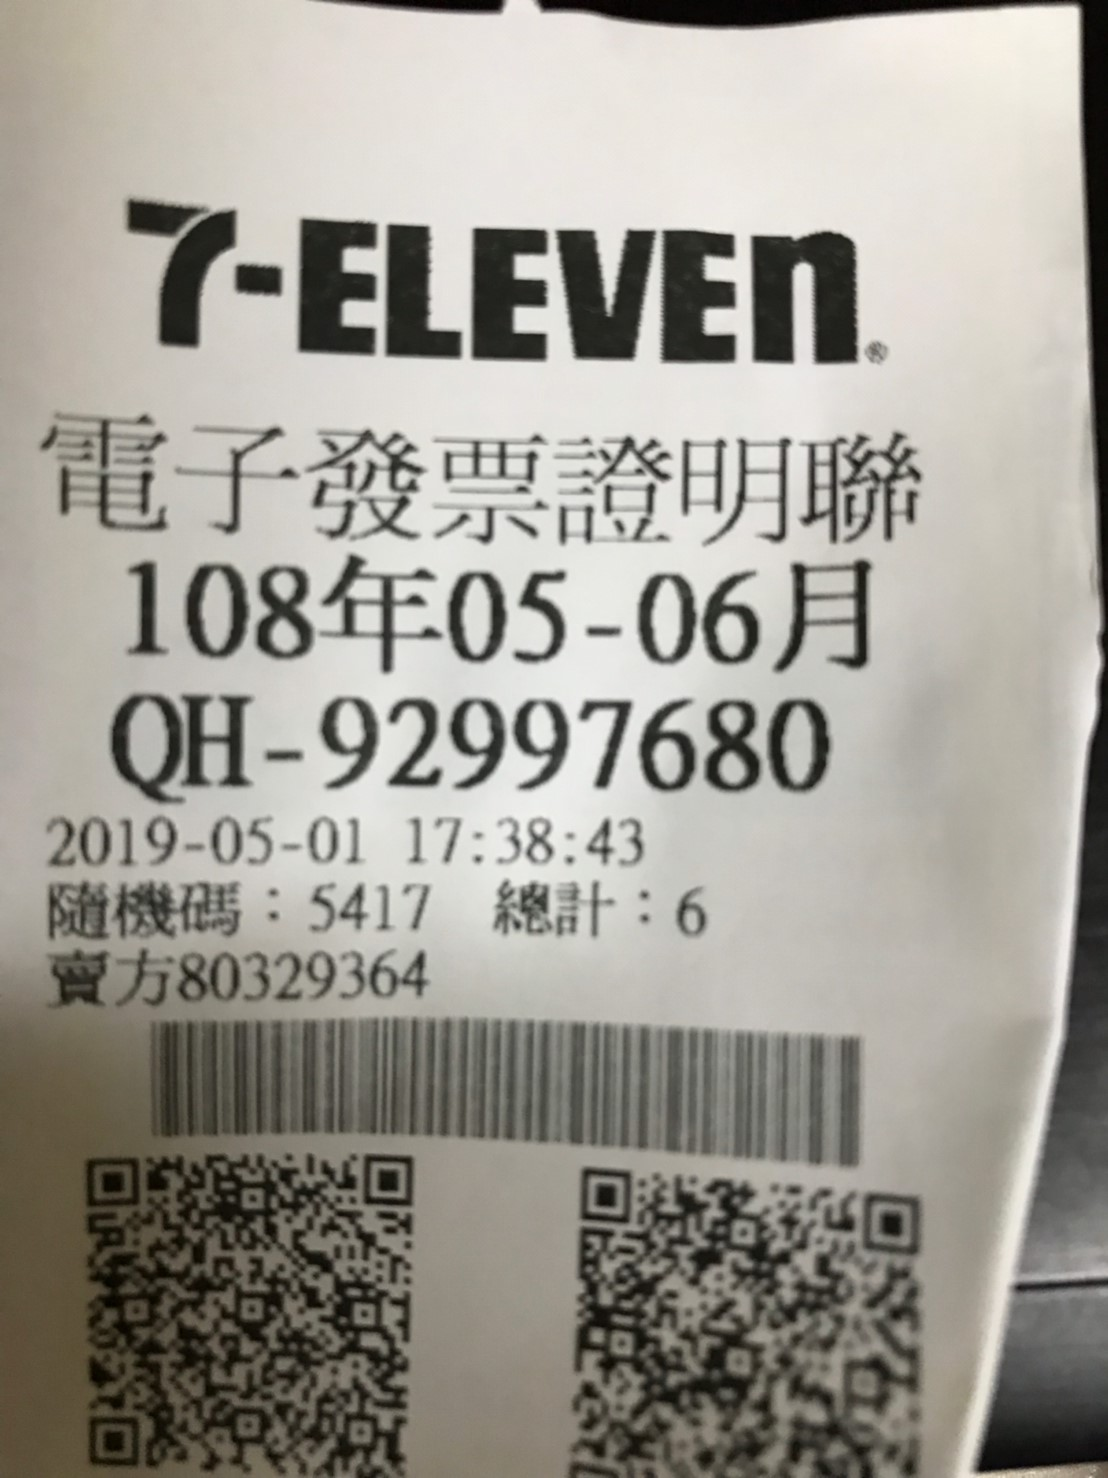Date_New: (126, 550, 882, 678)
Number_New: (318, 690, 834, 801)
